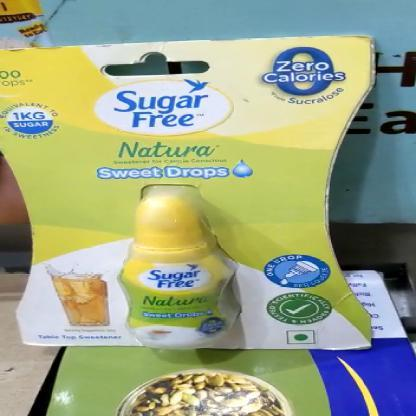SUGAR FREE NATURA SWEET DROPS: (0, 36, 371, 349)
